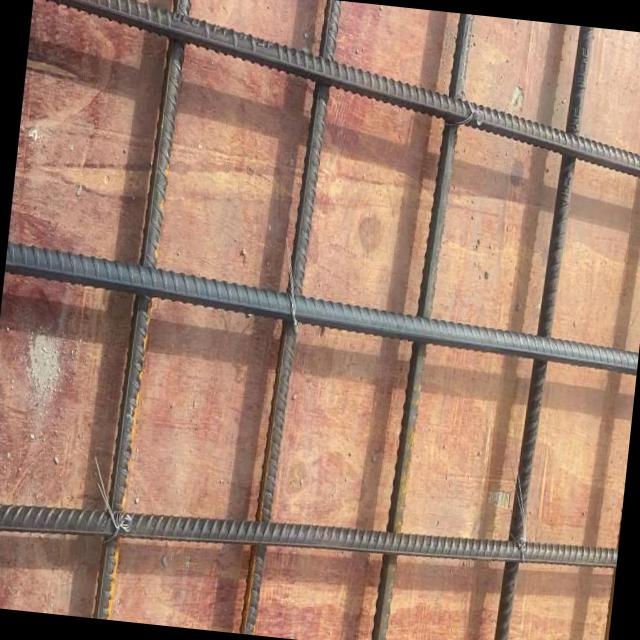ribbed bar: (20, 0, 640, 184), (0, 240, 640, 376), (0, 481, 618, 597), (368, 12, 474, 640), (238, 0, 342, 637), (489, 25, 595, 640), (93, 0, 194, 621)
